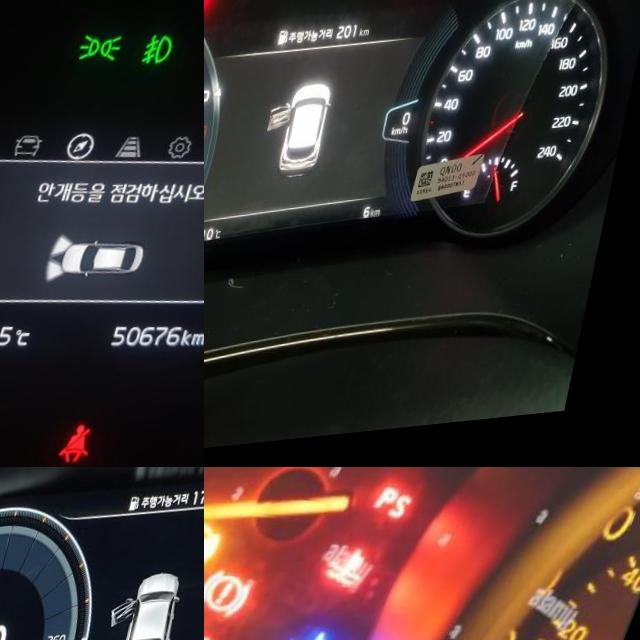Engine cooling system: (333, 538, 397, 597), (298, 618, 363, 640)
FrontFogLight: (147, 39, 183, 74)
SideLamp: (82, 37, 132, 72)
